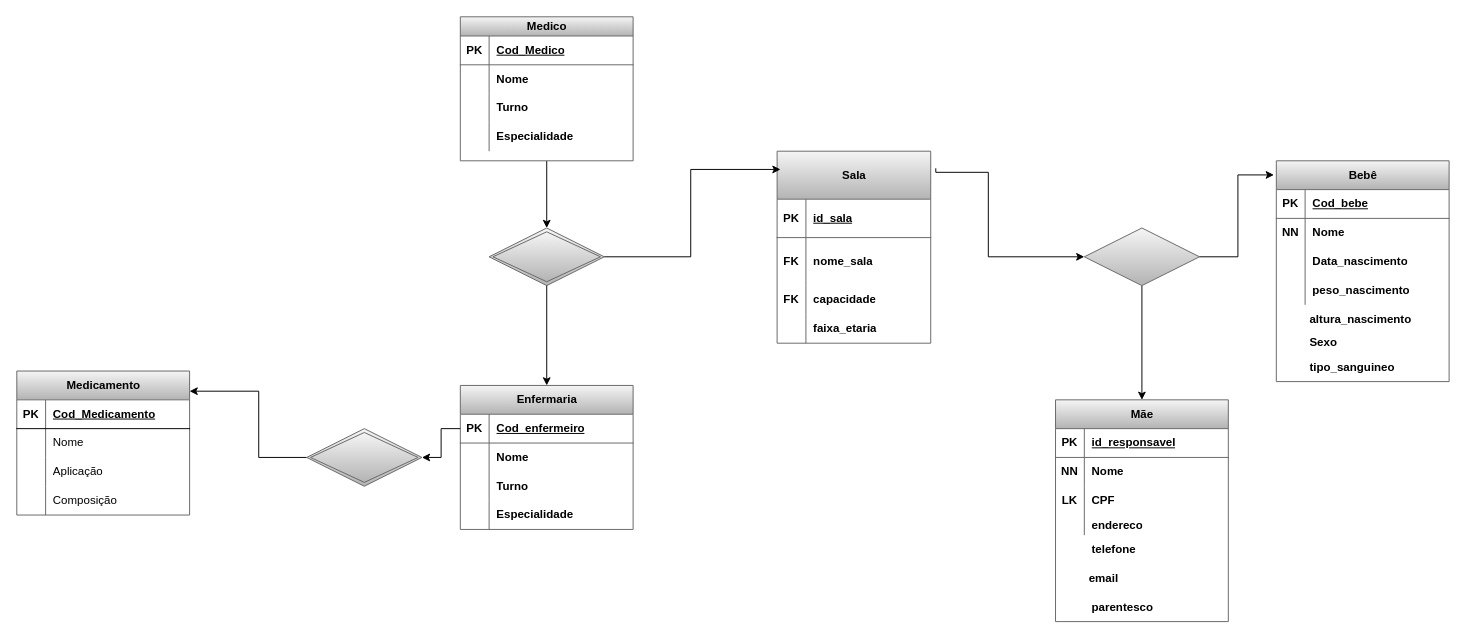
Image size: 1466x638. Some labels were removed from this diagram. The centre of each missing label's shape, as x and y in pixels:
Administra: point (364, 457)
Atendimento: point (546, 256)
Hospeda: point (1141, 256)
